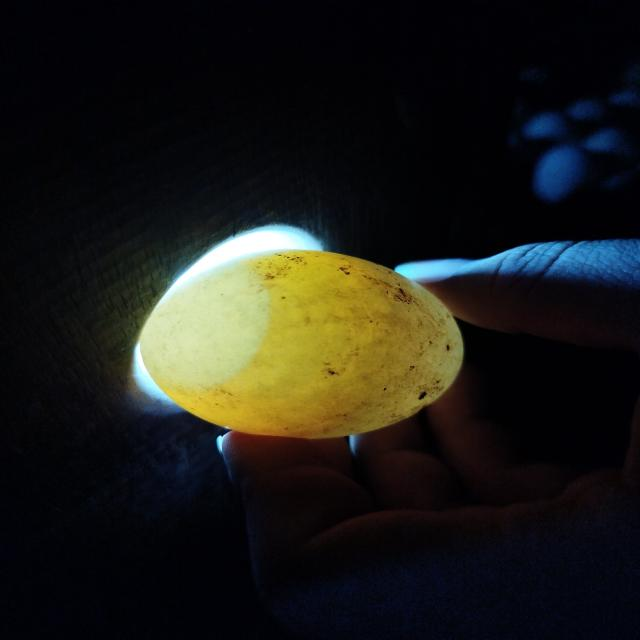Camara de Ar: (140, 256, 269, 387)
